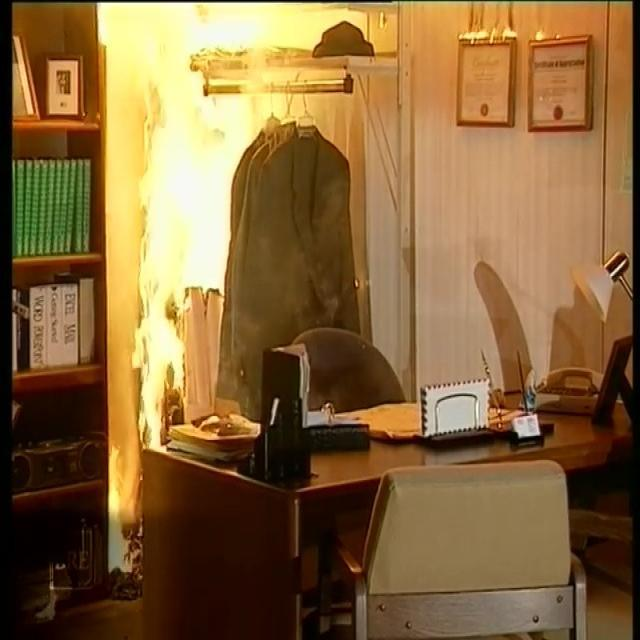Fire: (93, 1, 364, 578)
